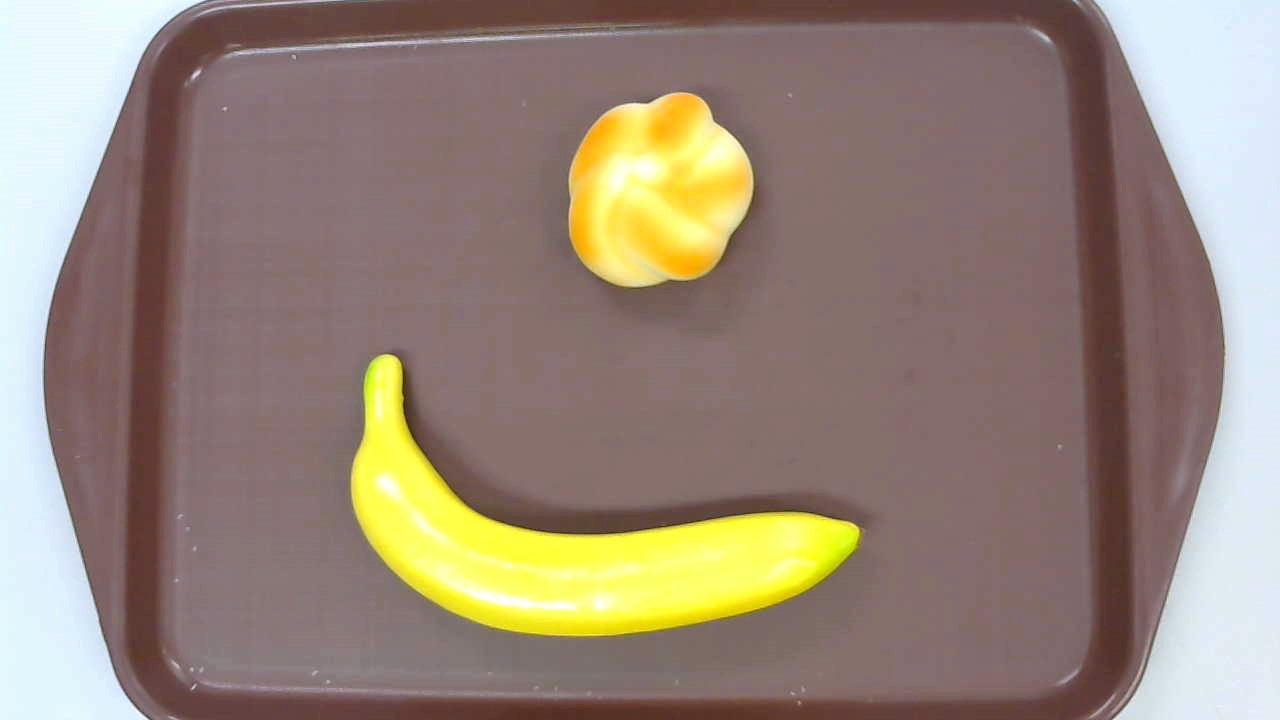banana: (350, 354, 860, 637)
twist bread: (566, 93, 754, 290)
